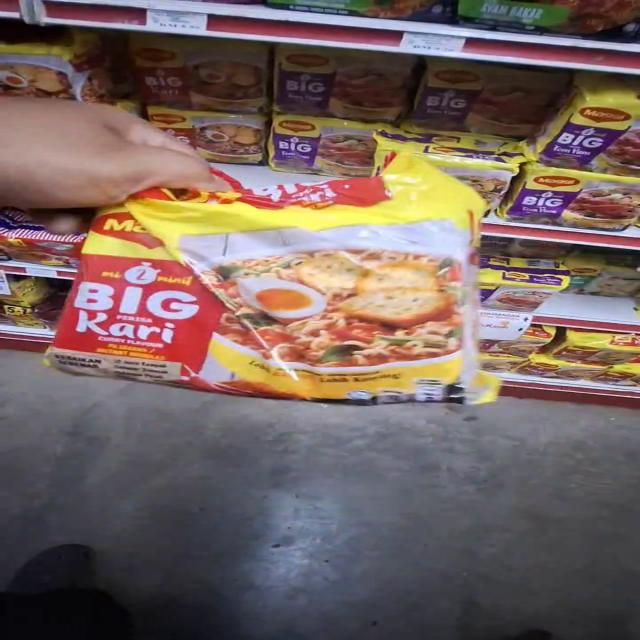Maggi: (62, 145, 523, 441)
